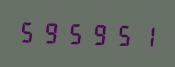five: (17, 17, 39, 45), (110, 20, 132, 48), (64, 19, 86, 46)
nine: (40, 18, 62, 46), (87, 19, 109, 47)
one: (133, 21, 155, 49)
